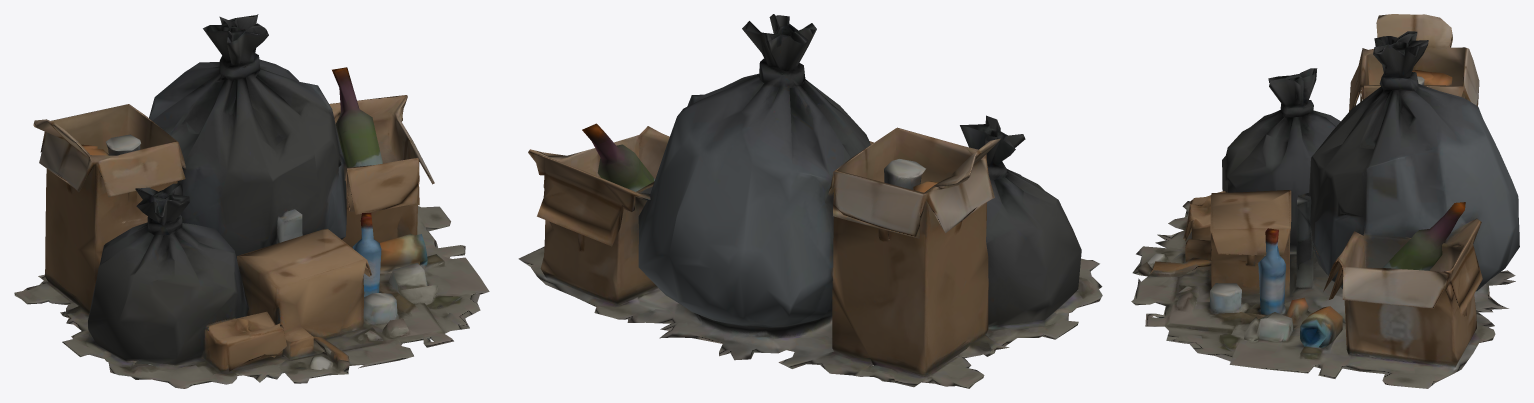
File: SM_Prop_GarbageBags_01.fbx
3 renders of one model, left to right at view 1: azimuth 30°, elevation 25°; view 2: azimuth 150°, elevation 25°; view 3: azimuth 270°, elevation 25°, orthographic. The views are drawn at different scales.
Visible parts, largest first — view 1: SM_Prop_GarbageBags_01; view 2: SM_Prop_GarbageBags_01; view 3: SM_Prop_GarbageBags_01.
Boxes of the visible parts, x1,y1,x2,y2 form: SM_Prop_GarbageBags_01: [14, 14, 489, 388]; SM_Prop_GarbageBags_01: [518, 14, 1102, 388]; SM_Prop_GarbageBags_01: [1131, 14, 1519, 388].
Bounding box in the file's own units: 1 × 0.5625 × 0.8005.
Materials: 1 (1 with a texture image).
